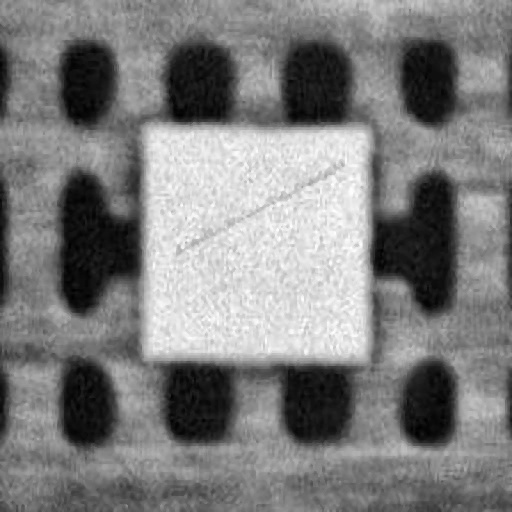DIE_CRACK: (260, 109, 509, 167)
